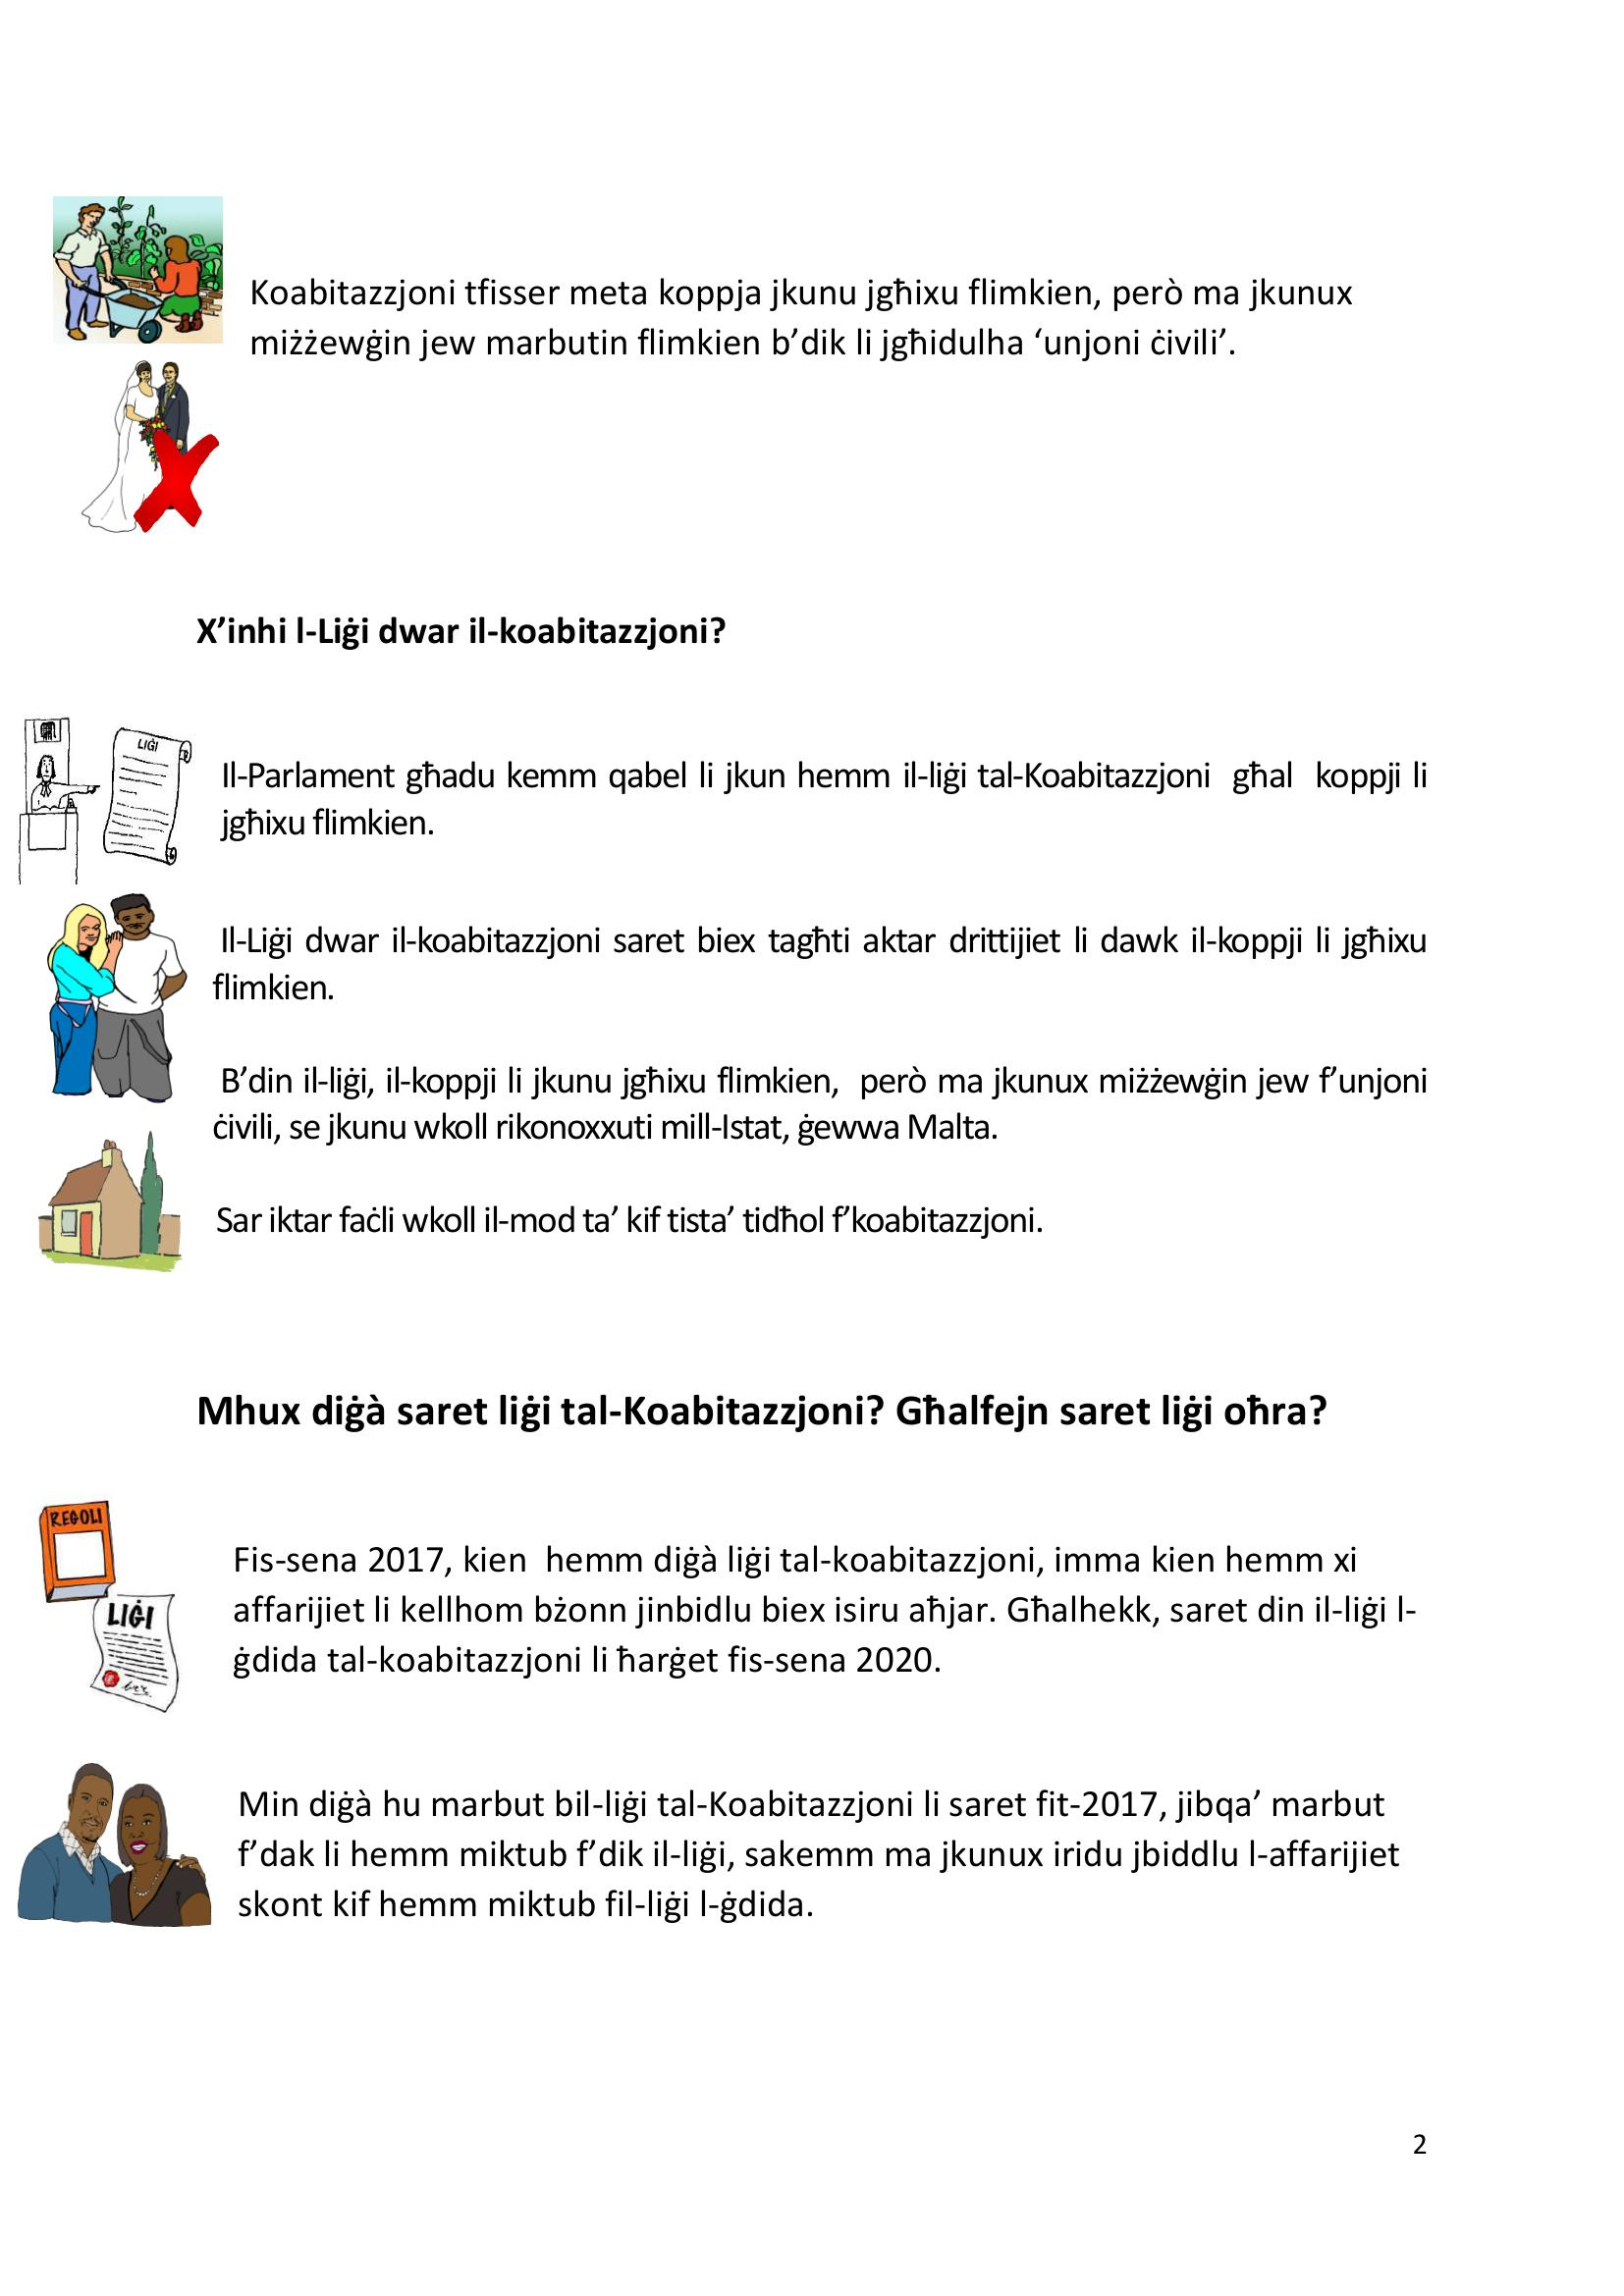text: (172, 241, 1455, 1948)
whiteout: (5, 706, 197, 1296), (11, 1488, 220, 1978), (30, 177, 237, 557)
